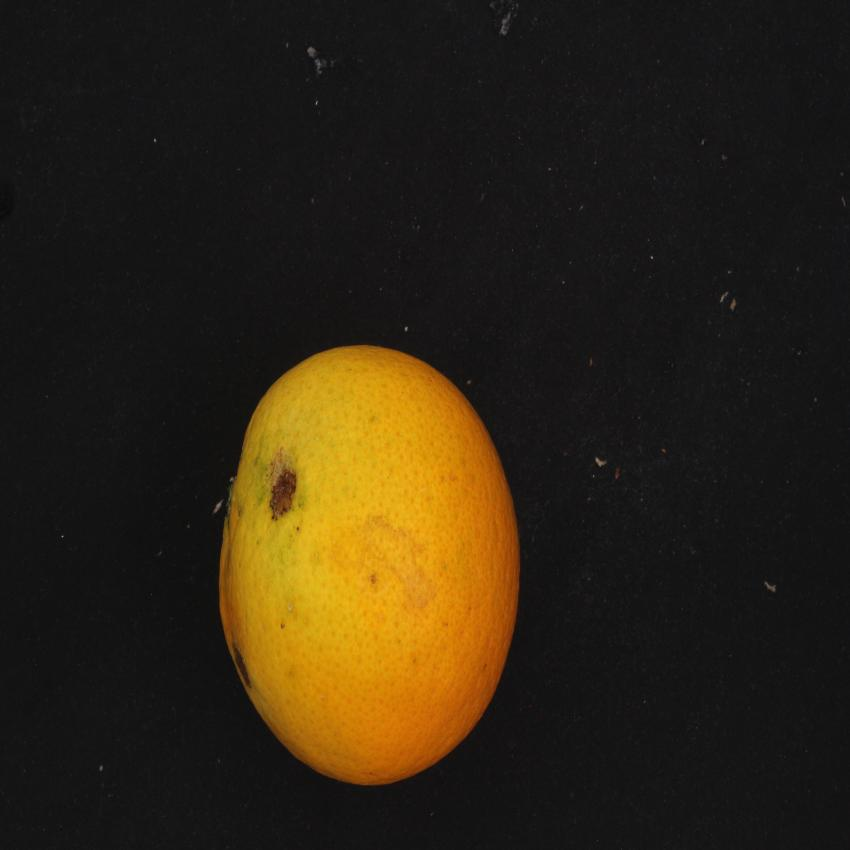Mal estado: (212, 328, 536, 802)
